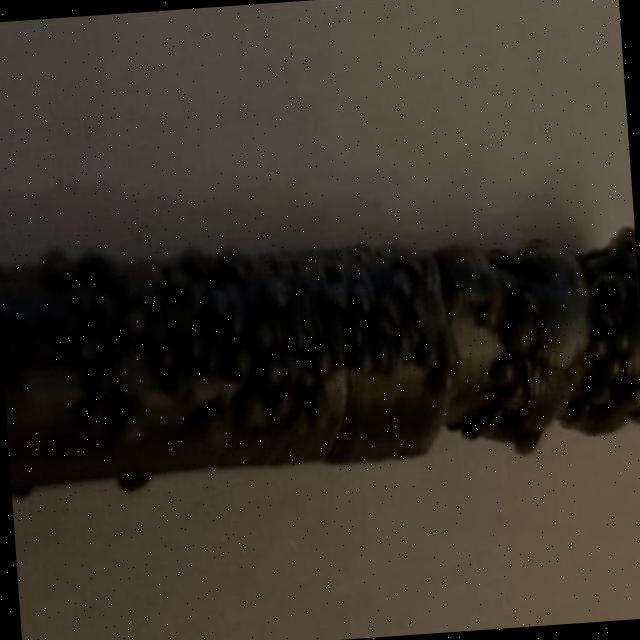blobs: (494, 308, 544, 362), (110, 390, 151, 444), (304, 336, 344, 382), (190, 394, 226, 444), (237, 385, 270, 434), (219, 338, 255, 382), (197, 278, 231, 324), (254, 351, 288, 396), (118, 290, 152, 335), (172, 321, 208, 362), (260, 270, 296, 309), (248, 312, 282, 353), (362, 304, 396, 345), (424, 361, 457, 400), (488, 353, 520, 386), (316, 274, 347, 308), (348, 276, 377, 312), (580, 378, 612, 409), (610, 324, 640, 357), (412, 340, 439, 376), (511, 423, 540, 456), (586, 326, 614, 360), (346, 338, 372, 374), (389, 265, 418, 296), (602, 352, 628, 384), (617, 378, 640, 413), (491, 384, 518, 409), (475, 298, 499, 326)
